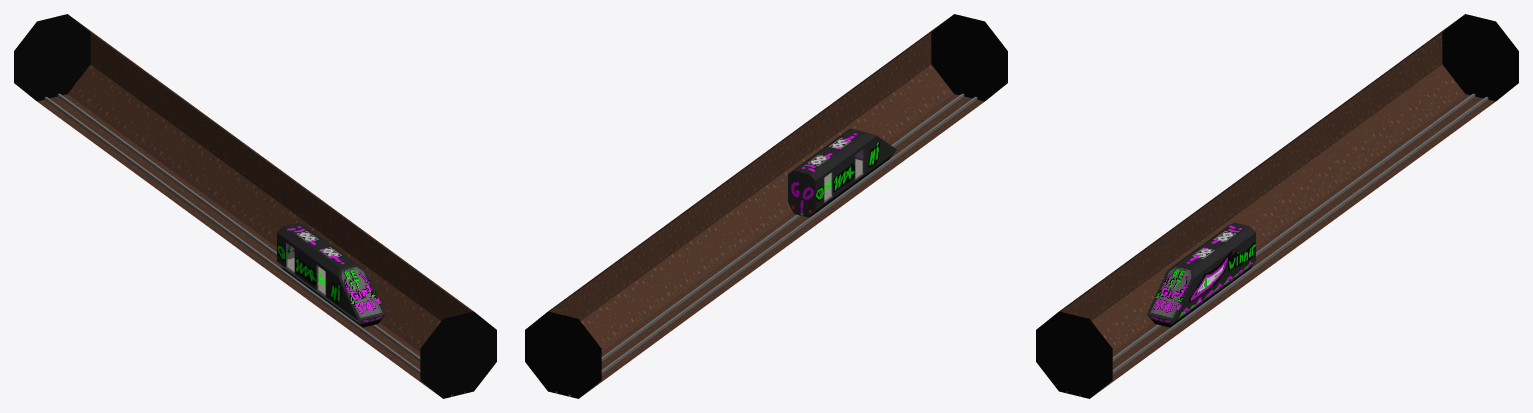
The model's file is Tanel.fbx.
The picture shows the model from 3 angles, left to right: view 1: azimuth 30°, elevation 25°; view 2: azimuth 150°, elevation 25°; view 3: azimuth 330°, elevation 25°; orthographic projection.
Visible parts, largest first — view 1: tanel.001, tanel, train, darkness.001, darkness, trainWay.001, trainWay, rail.002, rail.003, rail; view 2: tanel, tanel.001, train, darkness, darkness.001, trainWay.001, trainWay, rail, rail.002, rail.003, rail.001; view 3: tanel.001, tanel, train, darkness.001, darkness, trainWay.001, trainWay, rail.002, rail.003, rail.001.
Part boxes in pixels (x1,y1,x2,y2): tanel.001: (68,15,293,242); tanel: (271,164,473,351); train: (277,222,385,327); darkness.001: (420,311,496,398); darkness: (14,14,90,101); trainWay.001: (37,94,270,250); trainWay: (240,243,441,397); rail.002: (44,96,249,247); rail.003: (57,93,262,244); rail: (248,245,453,396); tanel: (728,15,953,242); tanel.001: (548,164,750,351); train: (788,128,896,217); darkness: (525,311,601,398); darkness.001: (931,14,1007,101); trainWay.001: (580,243,781,397); trainWay: (751,94,984,250); rail: (772,96,977,247); rail.002: (568,245,773,396); rail.003: (555,242,760,393); rail.001: (759,93,964,244); tanel.001: (1239,15,1464,242); tanel: (1059,164,1261,351); train: (1147,222,1255,327); darkness.001: (1036,311,1112,398); darkness: (1442,14,1518,101); trainWay.001: (1262,94,1495,250); trainWay: (1091,243,1292,397); rail.002: (1270,93,1475,244); rail.003: (1283,96,1488,247); rail.001: (1079,245,1284,396).
Size of the model in its own units: 1000 by 1000 by 9200.
